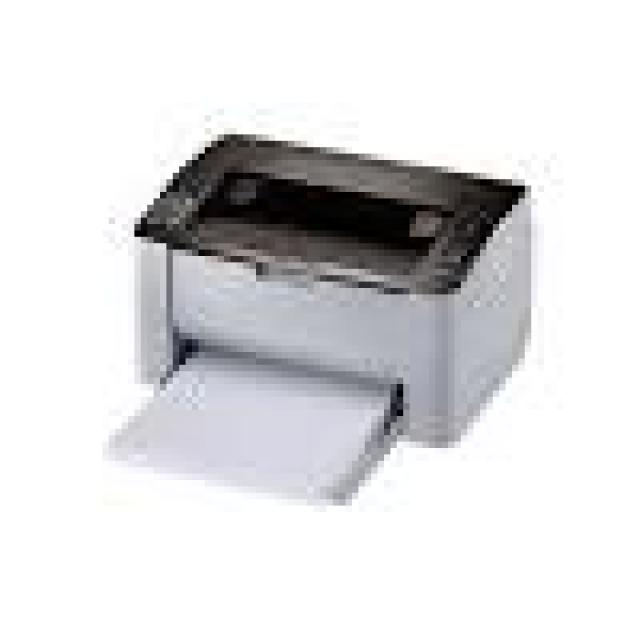printer: (95, 125, 538, 514)
